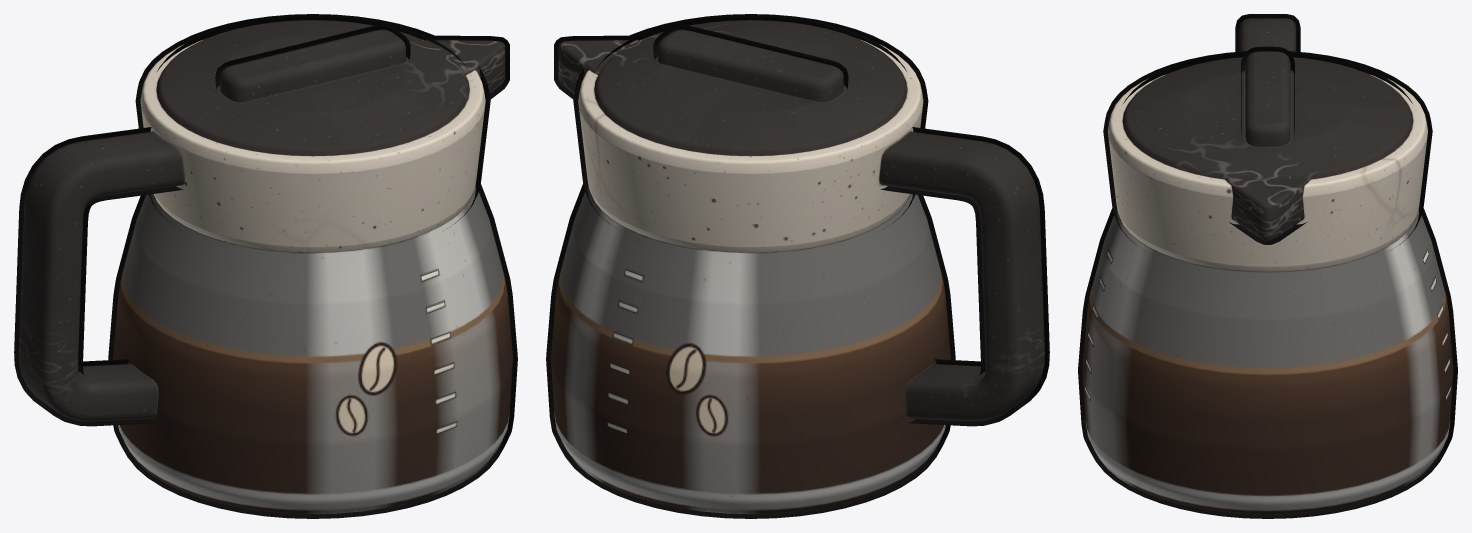
The model's file is CoffeePot_Full.fbx.
The picture shows the model from 3 angles, left to right: view 1: azimuth 30°, elevation 25°; view 2: azimuth 150°, elevation 25°; view 3: azimuth 270°, elevation 25°; orthographic projection. The views are drawn at different scales.
Visible parts, largest first — view 1: CoffeePot_Full; view 2: CoffeePot_Full; view 3: CoffeePot_Full.
Boxes of the visible parts, bbox=[...] form: CoffeePot_Full: bbox=[14, 14, 517, 518]; CoffeePot_Full: bbox=[546, 14, 1049, 518]; CoffeePot_Full: bbox=[1078, 14, 1457, 518].
Bounding box in the file's own units: 0.1827 × 0.1417 × 0.1347.
1 material, 1 textured.
